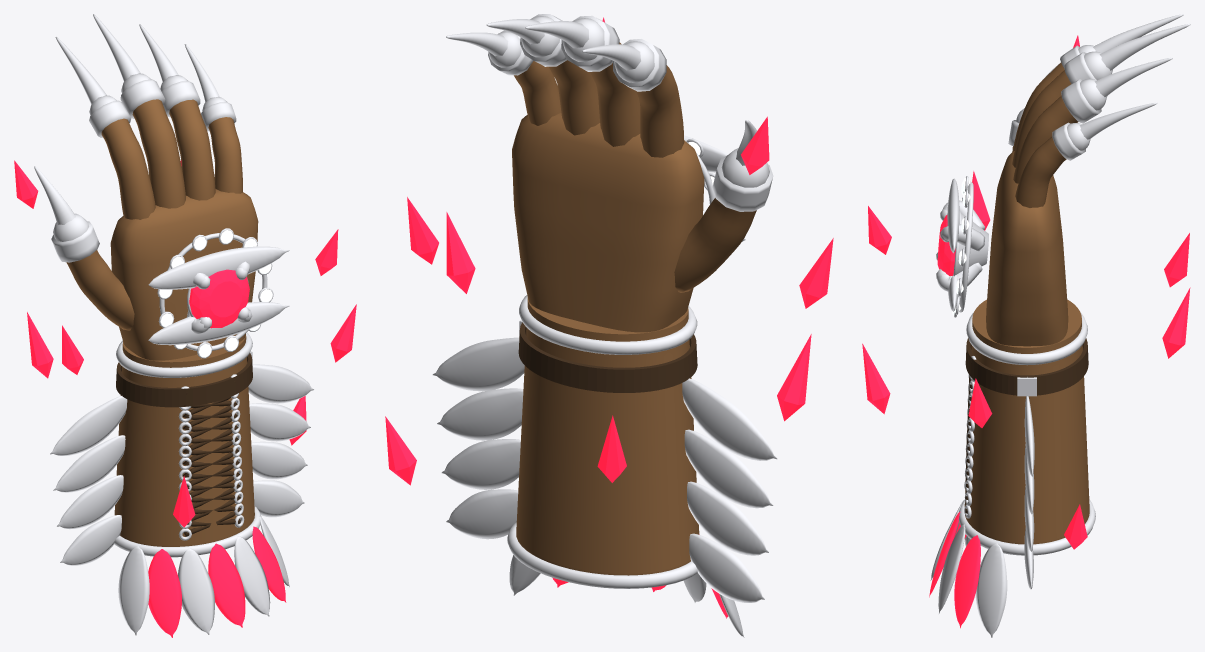
File: gloves_crit_mythic.glb
3 renders of one model, left to right at view 1: azimuth 30°, elevation 25°; view 2: azimuth 150°, elevation 25°; view 3: azimuth 270°, elevation 25°, orthographic. The views are drawn at different scales.
Parts seen in each view (by area): view 1: gloves_crit_mythic; view 2: gloves_crit_mythic; view 3: gloves_crit_mythic.
Part boxes in pixels (x1=…): gloves_crit_mythic: x1=14, y1=14, x2=356, y2=637; gloves_crit_mythic: x1=385, y1=14, x2=833, y2=637; gloves_crit_mythic: x1=862, y1=14, x2=1190, y2=637.
Bounding box in the file's own units: 2.11 × 3.61 × 1.92.
